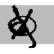not correct: (7, 5, 38, 48)
